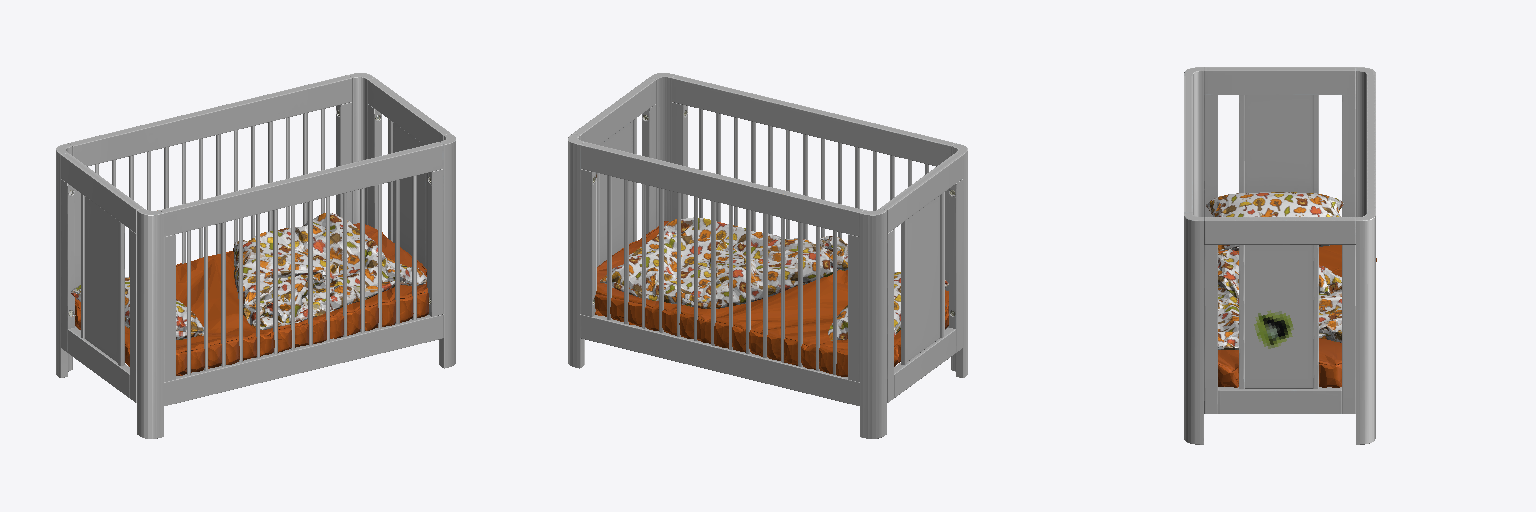
3 views of the same model, side by side, from view 1: azimuth 30°, elevation 25°; view 2: azimuth 150°, elevation 25°; view 3: azimuth 270°, elevation 25° (orthographic).
Visible parts, largest first — view 1: solid_002, solid_001, solid_005; view 2: solid_002, solid_001, solid_005; view 3: solid_002, solid_001, solid_005, glass_001.
Boxes of the visible parts, x1=… form: solid_002: x1=56, y1=73, x2=455, y2=438; solid_001: x1=71, y1=213, x2=426, y2=339; solid_005: x1=75, y1=223, x2=428, y2=375; solid_002: x1=568, y1=73, x2=967, y2=438; solid_001: x1=600, y1=217, x2=948, y2=340; solid_005: x1=594, y1=221, x2=948, y2=376; solid_002: x1=1184, y1=67, x2=1375, y2=444; solid_001: x1=1206, y1=192, x2=1343, y2=349; solid_005: x1=1218, y1=245, x2=1376, y2=387; glass_001: x1=1254, y1=310, x2=1293, y2=348.
Bounding box in the file's own units: 1.25 × 0.85 × 0.6642.
Materials: 1 (1 with a texture image).